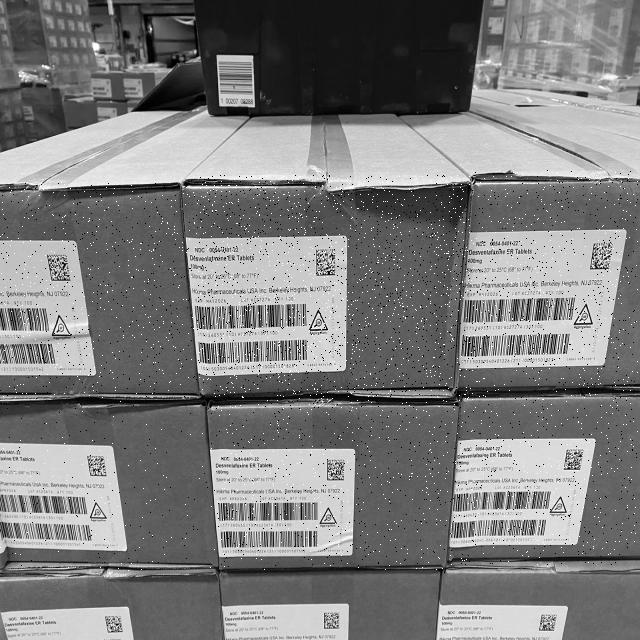BoxFace: (180, 175, 470, 399), (0, 182, 200, 399), (206, 400, 458, 570), (456, 170, 638, 393), (0, 400, 218, 571), (446, 392, 638, 565)
